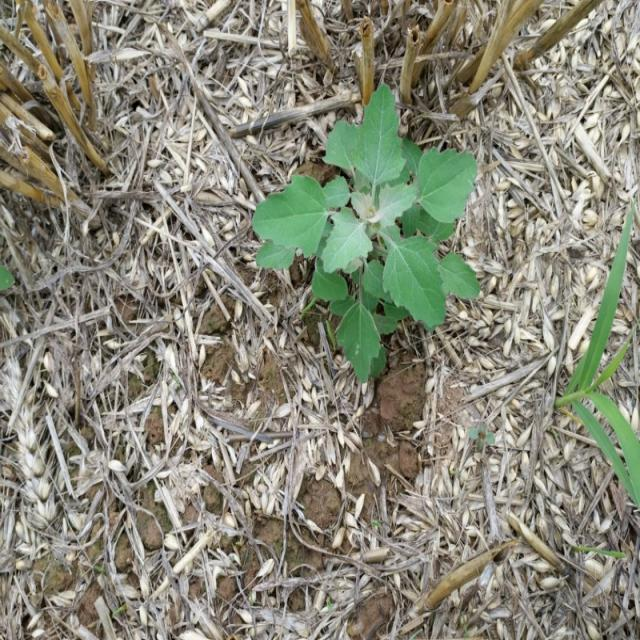goosefoots: (242, 77, 511, 334)
